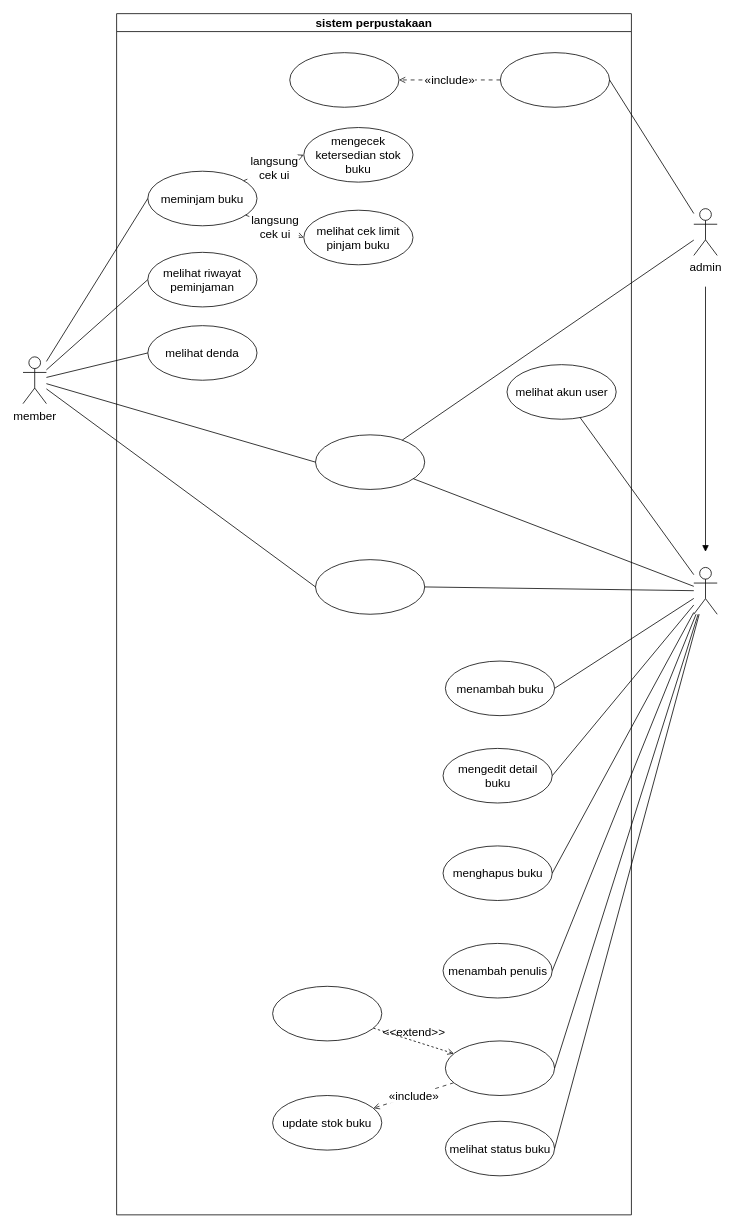
Some shapes in this 750 by 1229 pixel diagram are drawn without their labels. Each missing label, with the centre of its shape:
login: pixel 370 461
melihat katalog buku: pixel 370 586
membuat akun: pixel 555 79
menetapkan akses akun: pixel 344 79
mengedit status peminjaman: pixel 500 1068
menghitung denda keterlambatan: pixel 327 1013
staff perpus: pixel 705 590
